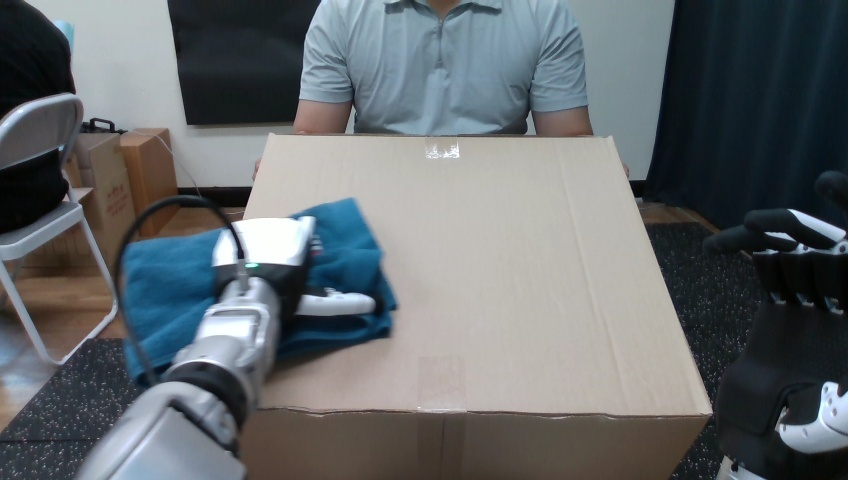left robot hand: (76, 216, 375, 479), (704, 208, 847, 478)
